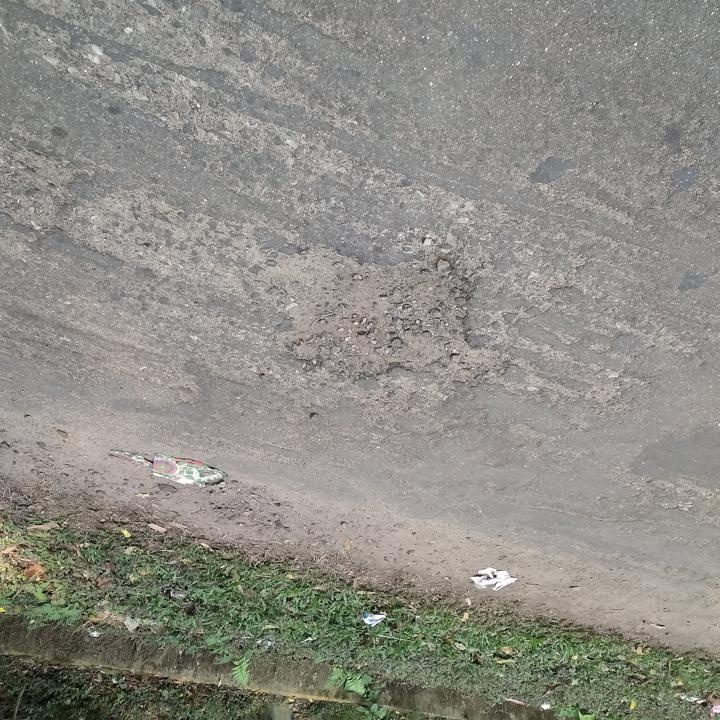pothole: (264, 244, 512, 388)
